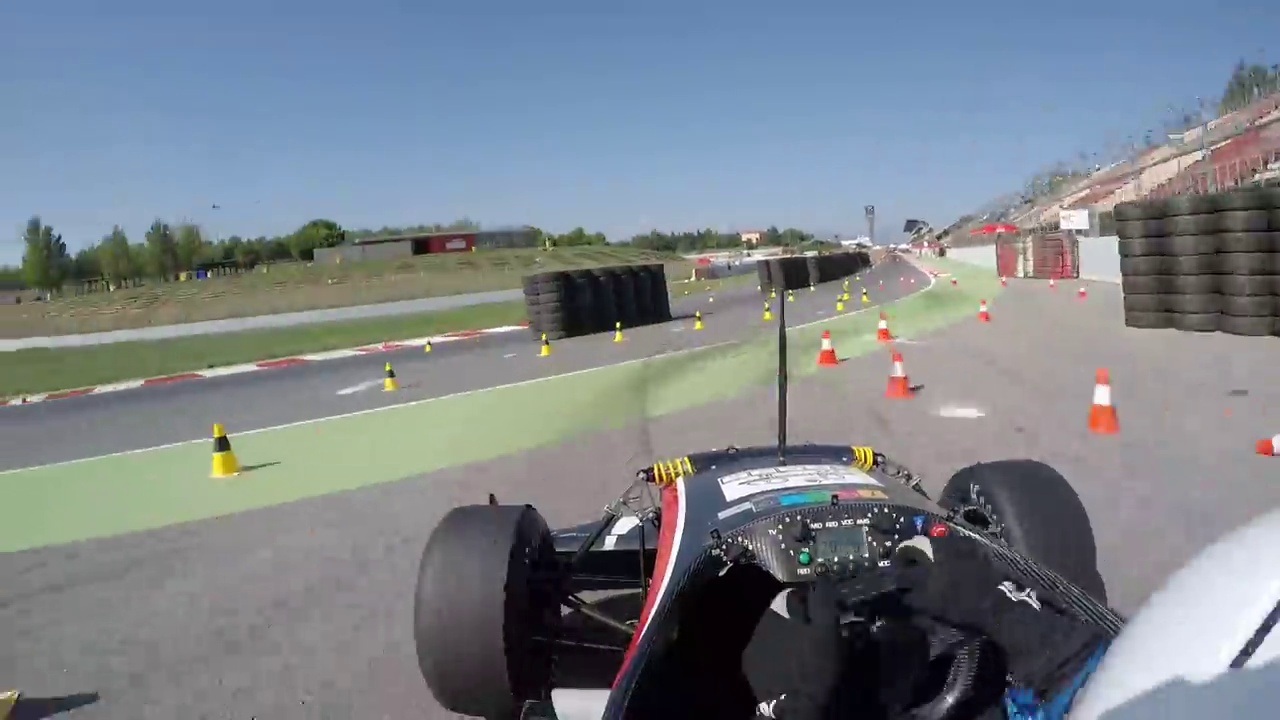Cone: (1085, 363, 1125, 436), (208, 420, 243, 479), (884, 352, 916, 399), (816, 327, 844, 367)
